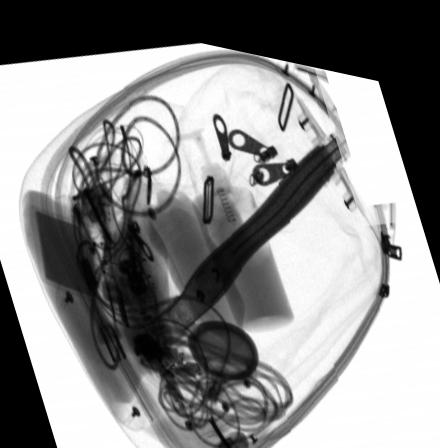Powerbank: (32, 204, 114, 300)
